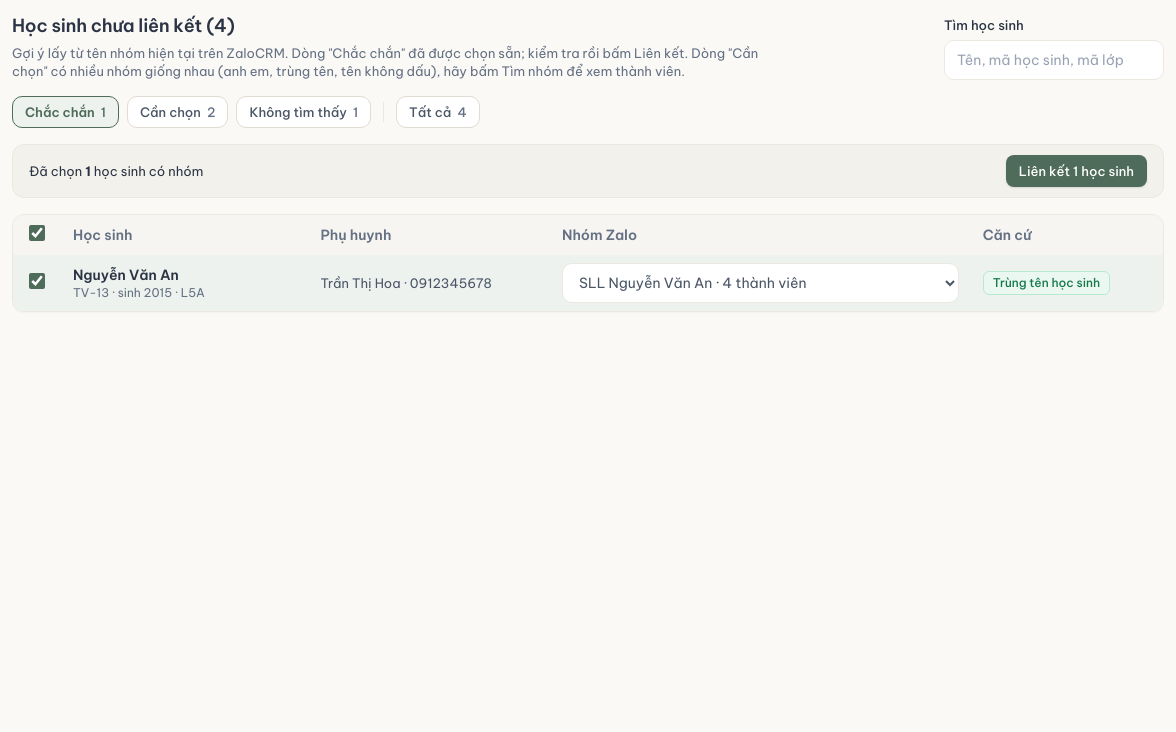
Test case: ZaloGroupBulkLinker › saves the ticked rows and reports rows that failed
Click the button "Cần chọn 2": (178, 112) [127,96,228,128]
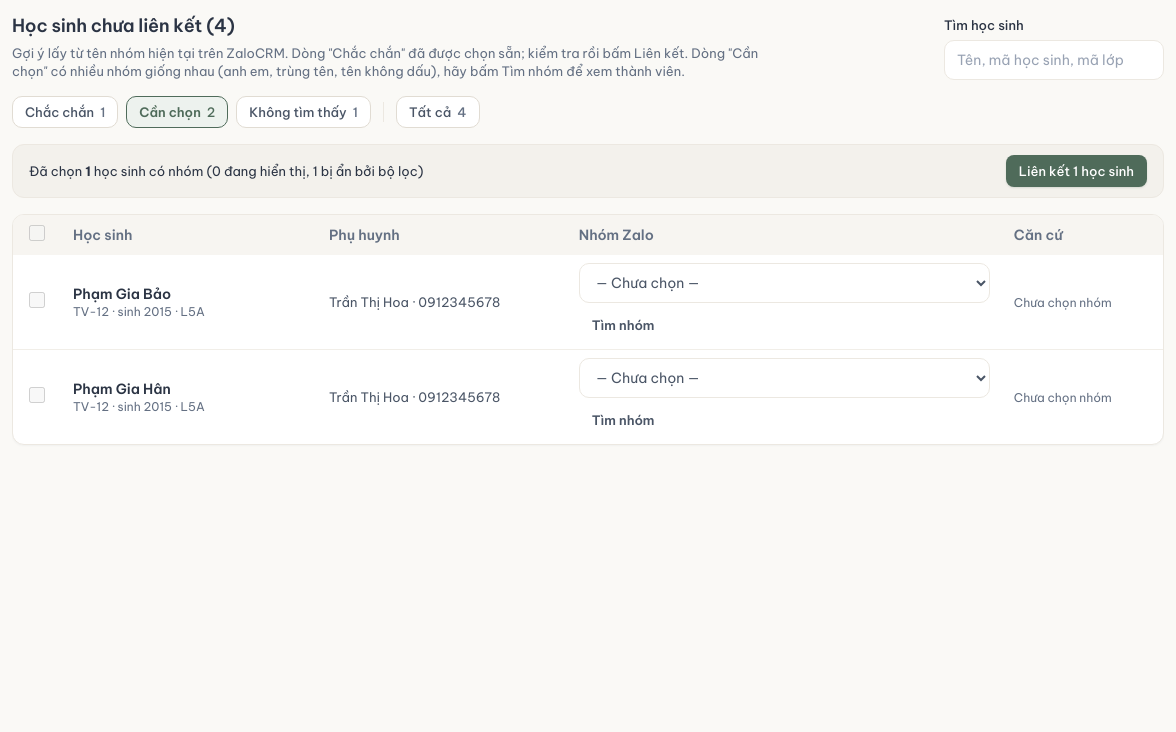
Select "PH Hoa 0912345678 · 3 thành viên" in the dropdown named "Nhóm Zalo cho Phạm Gia Bảo": (784, 283) [579,263,990,303]
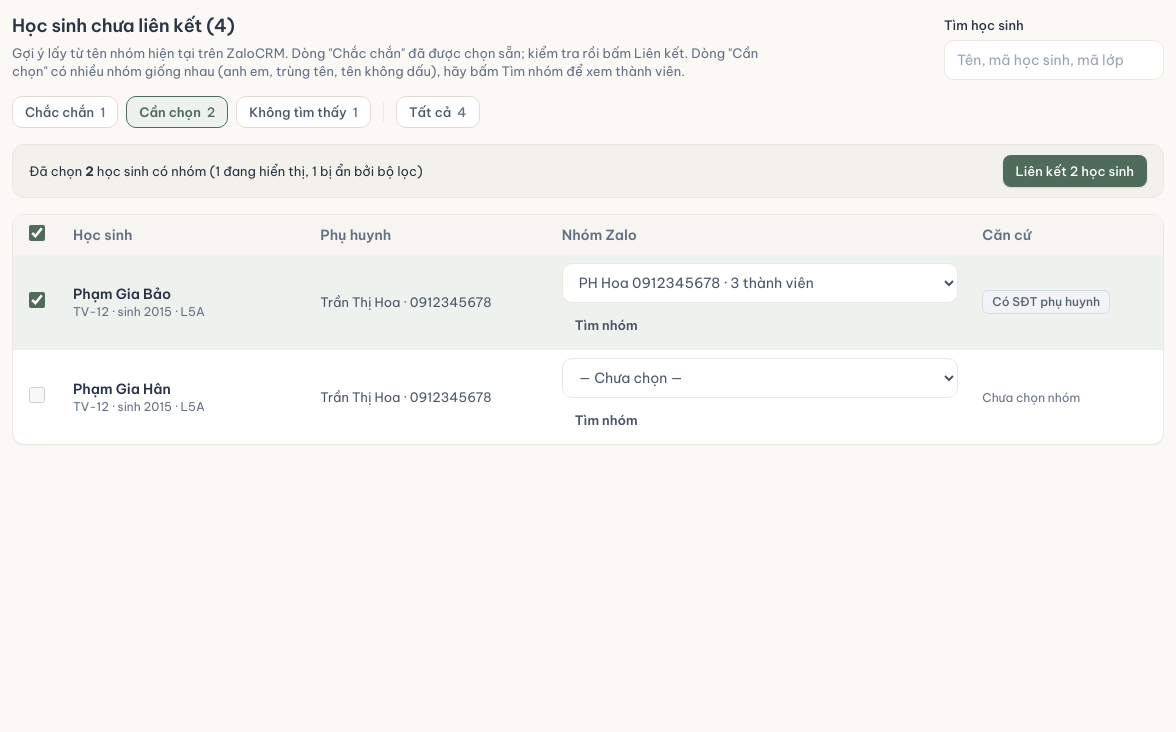
Click the button "Liên kết 2 học sinh": (1075, 171) [1002,155,1147,187]
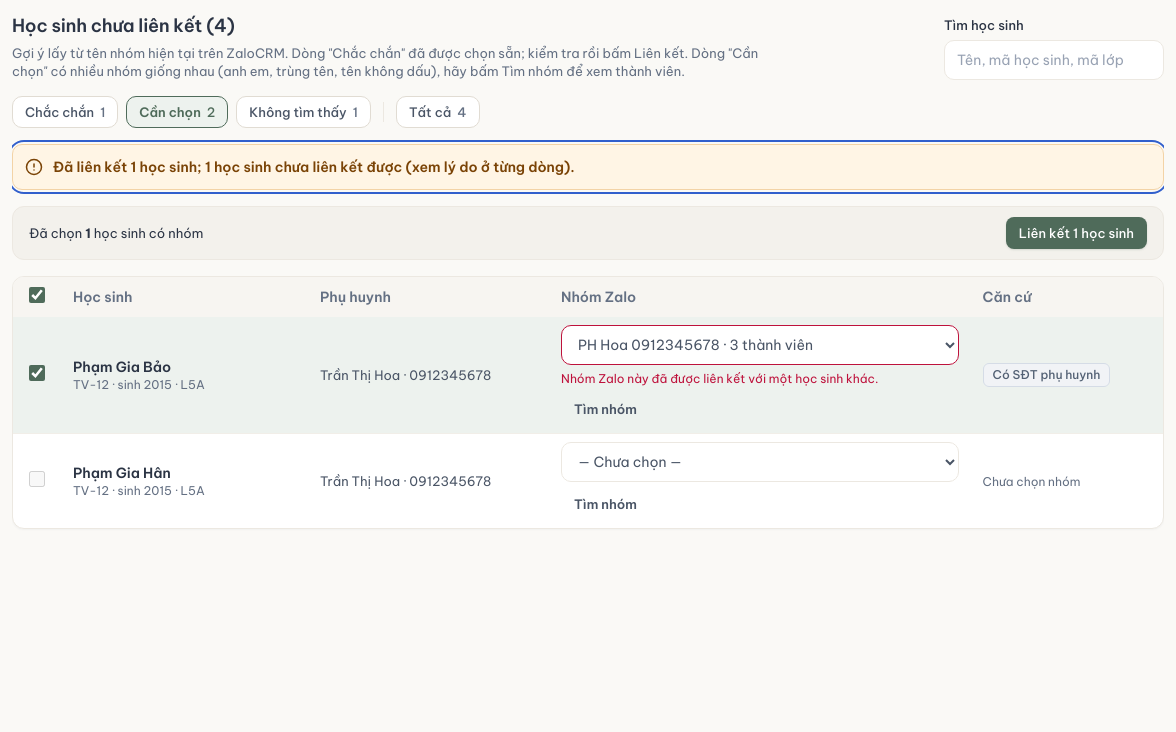
expect the text "Đã liên kết 1 học sinh; 1 học sinh chưa liên kết được" is shown: met, box [53,158,575,176]
expect the text "Nhóm Zalo này đã được liên kết với một học sinh khác." is shown: met, box [561,371,878,386]
